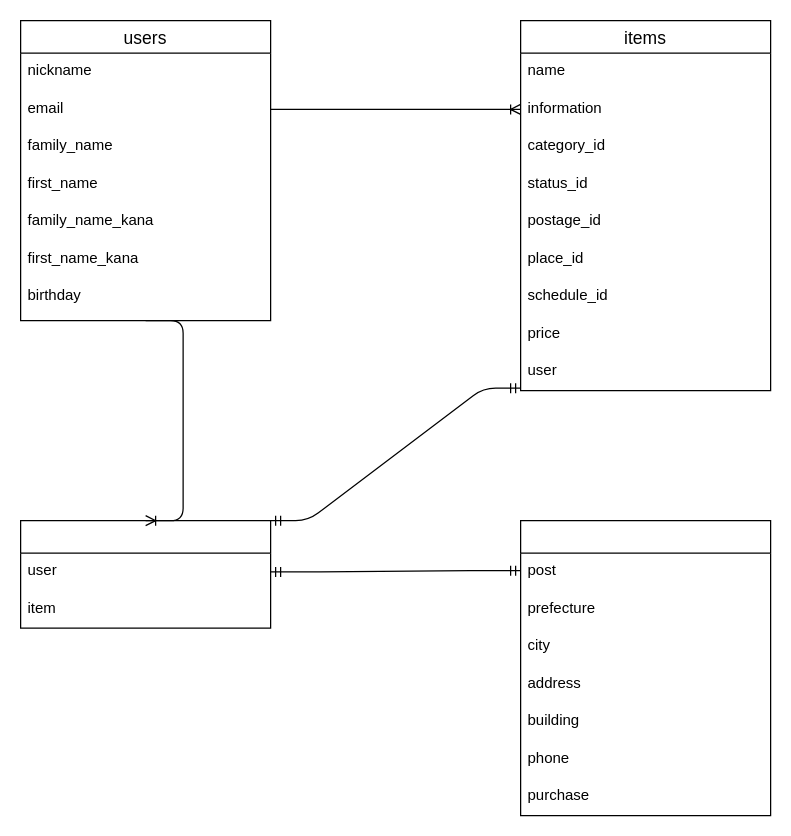
Image size: 791x836. Some labels were removed from this diagram. Each missing label, with the box of its shape:
purchases: (19, 519, 271, 628)
transports: (519, 519, 771, 816)
